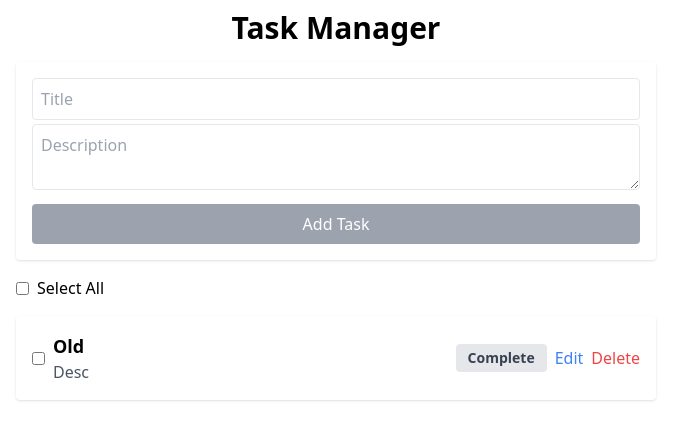
Test case: App Component › shows validation errors for title with special characters
The image size is (673, 442).
Type "Task@123" into the field with placeholder "Title".
click(336, 99); type("Task@123")  # box [32,78,640,120]
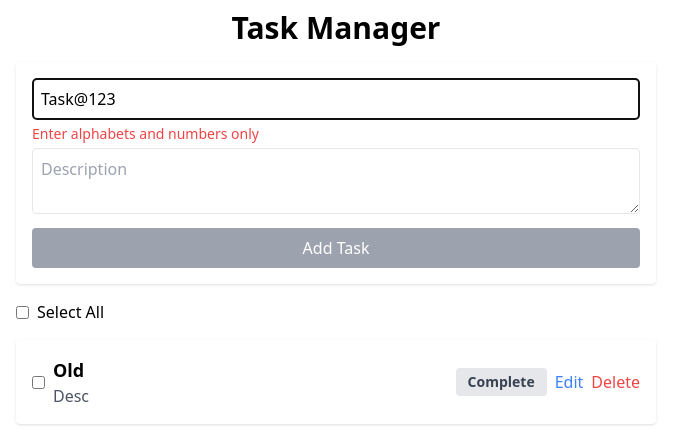
Now the text "Enter alphabets and numbers only" is shown, box [32,124,259,143]
